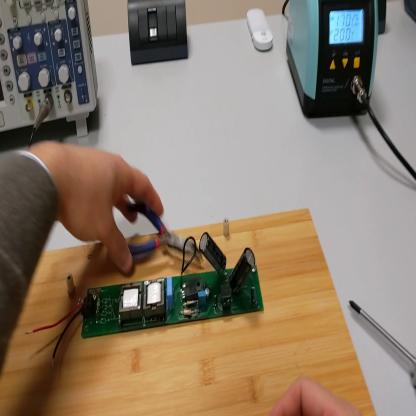hand: (52, 142, 166, 278), (273, 381, 358, 414)
high voltage board: (25, 233, 266, 362)
oscilloscope: (2, 3, 99, 153)
pliers: (123, 207, 207, 274)
screwdriver-: (346, 297, 416, 392)
socket: (379, 1, 388, 37), (405, 2, 416, 25)
welder station: (287, 2, 380, 121)
working area: (2, 209, 378, 416)
